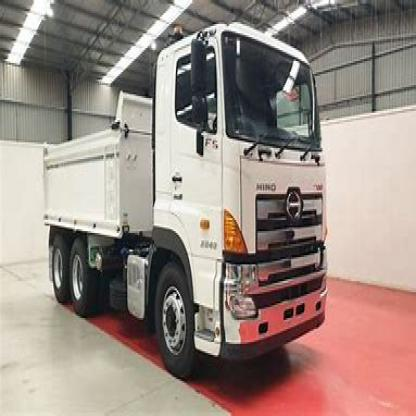dump_truck: (28, 13, 336, 388)
